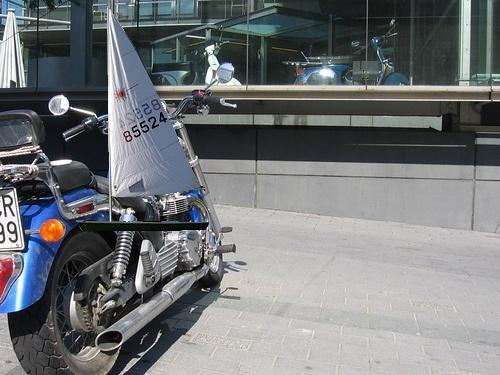tampered: (77, 5, 209, 231)
